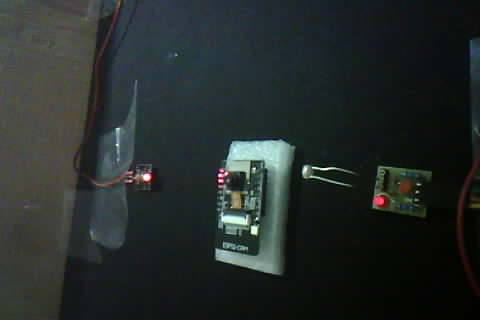esp32: (211, 140, 292, 275)
